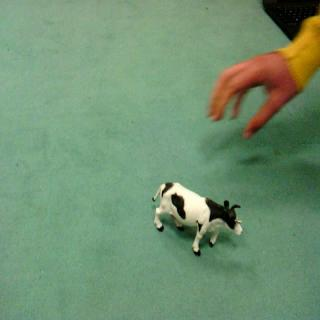cow: (150, 175, 246, 260)
